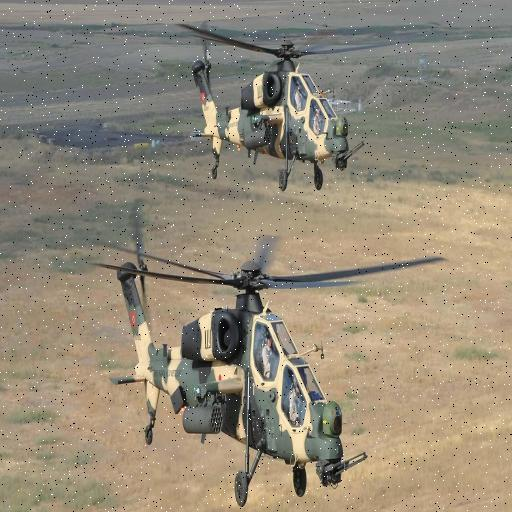helicopter: (95, 145, 388, 476), (164, 13, 412, 214)
